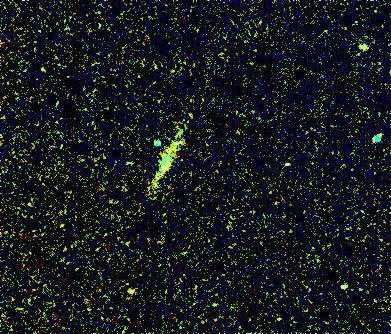star: (116, 274, 146, 304)
